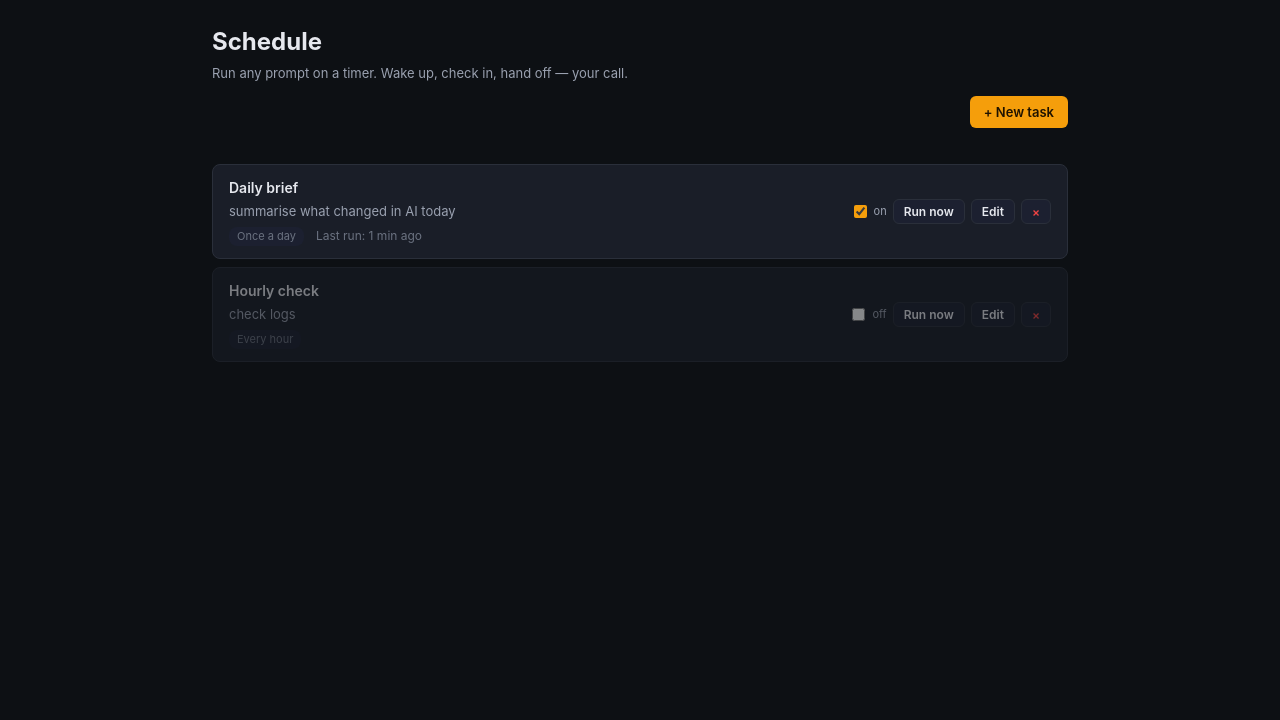
Test: ScheduleView › + New task opens the form
Click the button "+ New task" at point(1019, 112), box [970,96,1068,128]
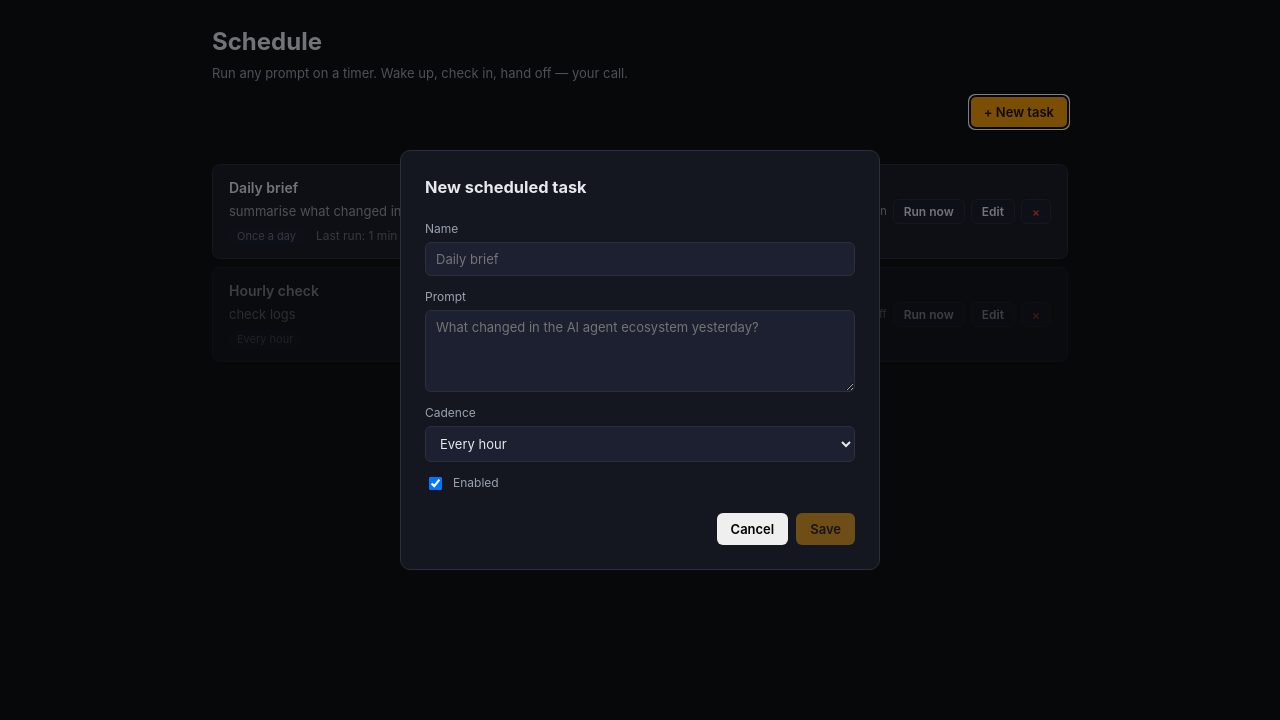
Expected: the heading "New scheduled task" is shown, [425,177,587,197]
